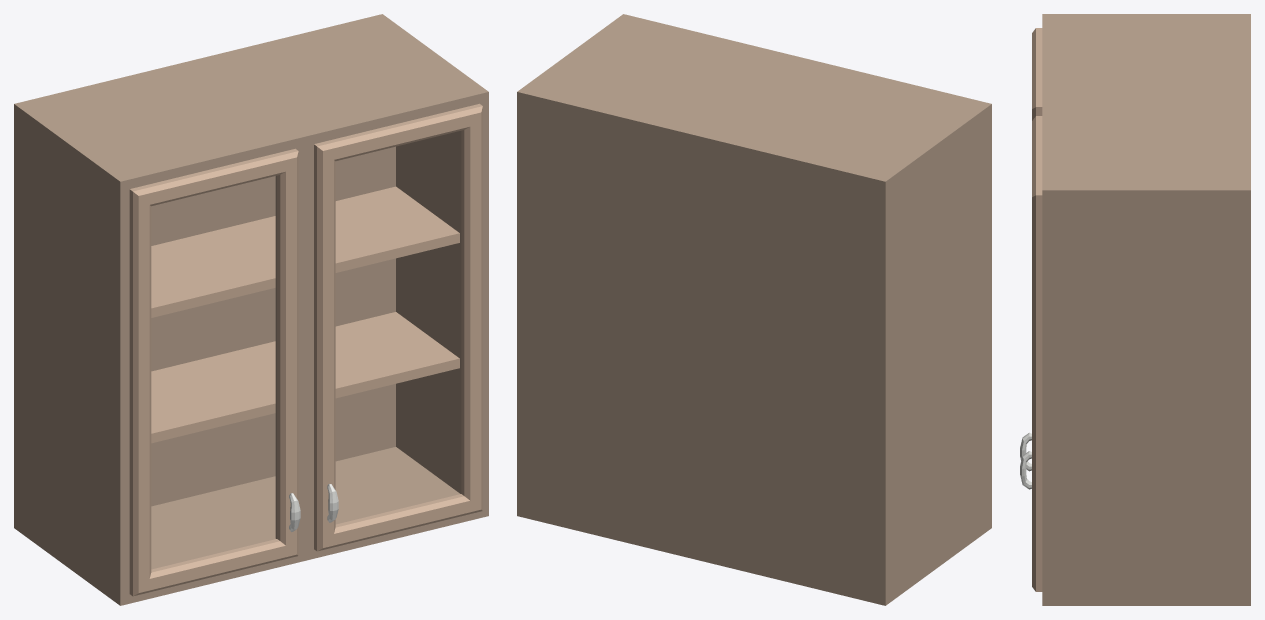
File: Structure_Kitchen_Cabinet_Wall_Open.fbx
3 renders of one model, left to right at view 1: azimuth 30°, elevation 25°; view 2: azimuth 150°, elevation 25°; view 3: azimuth 270°, elevation 25°, orthographic. The views are drawn at different scales.
Parts seen in each view (by area): view 1: object1.092, object3.043, object2.054; view 2: object1.092; view 3: object1.092, object2.054, object3.043.
Part boxes in pixels (x1,y1,x2,y2): object1.092: (14, 14, 488, 605); object3.043: (129, 148, 300, 596); object2.054: (314, 103, 482, 551); object1.092: (517, 14, 991, 605); object1.092: (1042, 14, 1250, 605); object2.054: (1020, 116, 1042, 591); object3.043: (1020, 28, 1042, 471).
Bounding box in the file's own units: 100 × 110 × 55.31.
